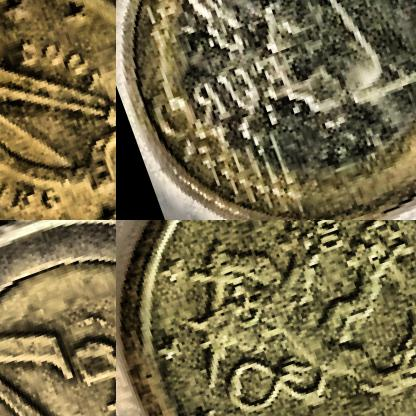coin: (116, 0, 415, 219), (116, 220, 415, 415), (0, 0, 115, 219), (0, 220, 115, 415)
